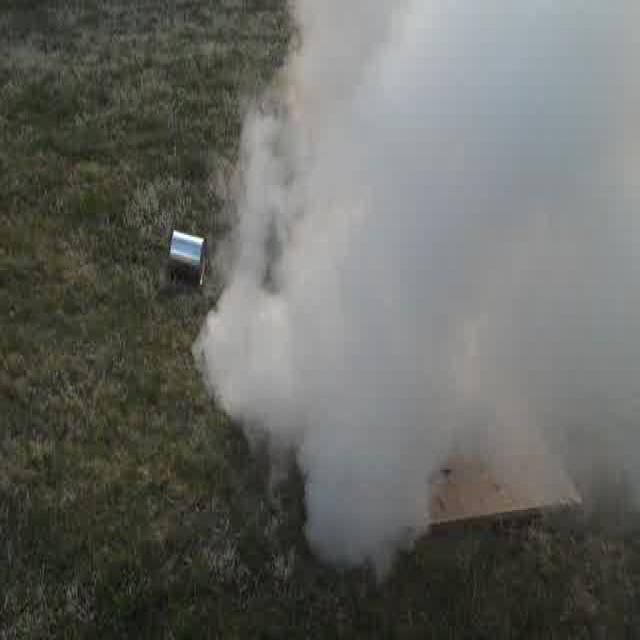Smoke: (292, 6, 636, 554)
